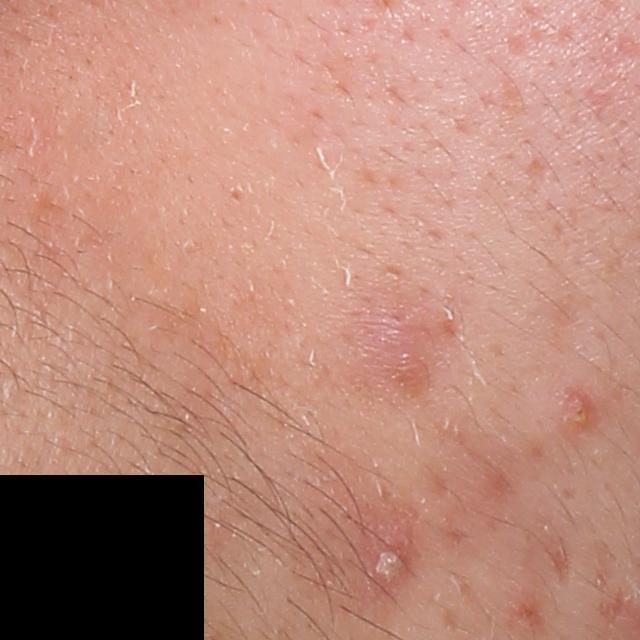papule: (562, 389, 596, 431)
